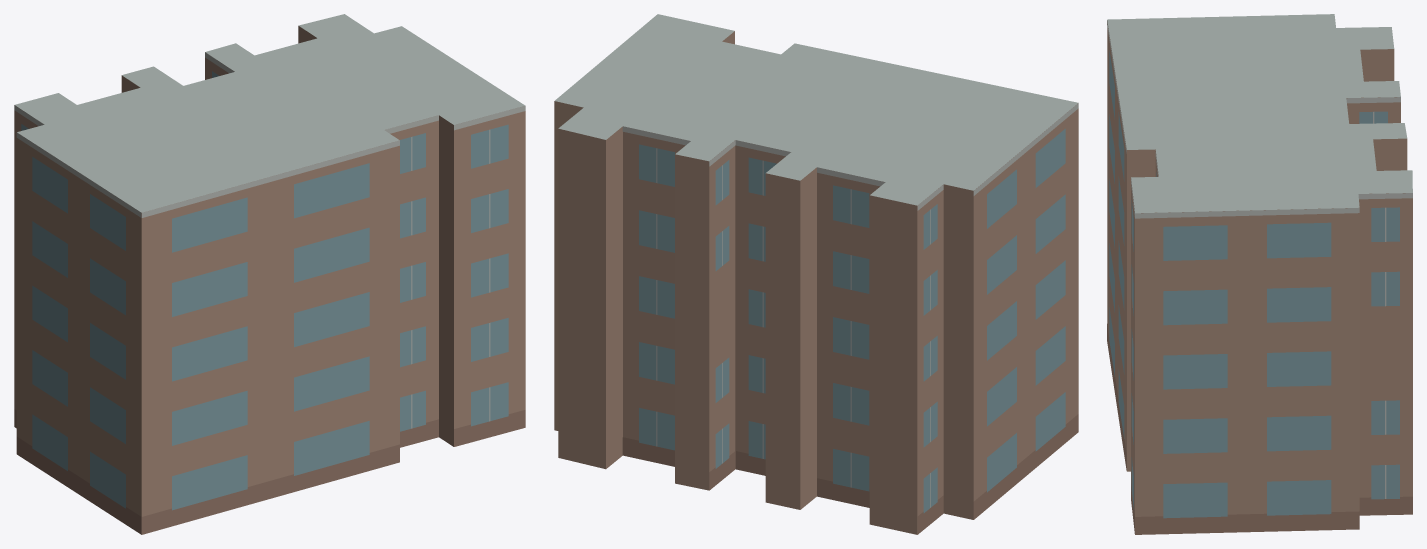
File: survey-upis-32748073.glb
3 views of the same model, side by side, from view 1: azimuth 30°, elevation 25°; view 2: azimuth 150°, elevation 25°; view 3: azimuth 270°, elevation 25° (orthographic). The views are drawn at different scales.
Parts seen in each view (by area): view 1: survey-upis-32748073.tmp; view 2: survey-upis-32748073.tmp; view 3: survey-upis-32748073.tmp.
Boxes of the visible parts, x1,y1,x2,y2 form: survey-upis-32748073.tmp: (14,14,525,534); survey-upis-32748073.tmp: (554,14,1078,534); survey-upis-32748073.tmp: (1107,14,1412,534).
Bounding box in the file's own units: 19.54 × 14.7 × 12.67.
